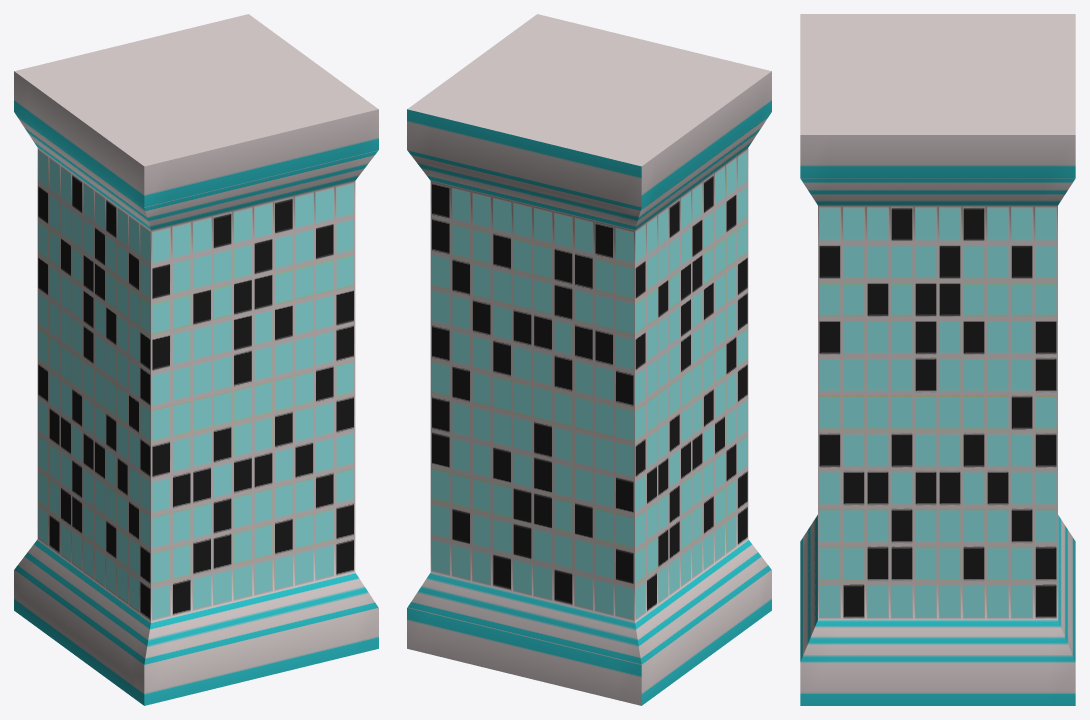
The model's file is Building_1.fbx.
The picture shows the model from 3 angles, left to right: view 1: azimuth 30°, elevation 25°; view 2: azimuth 150°, elevation 25°; view 3: azimuth 270°, elevation 25°; orthographic projection. The views are drawn at different scales.
Visible parts, largest first — view 1: pCube1; view 2: pCube1; view 3: pCube1.
Part boxes in pixels (x1,y1,x2,y2): pCube1: (14, 14, 378, 705); pCube1: (407, 14, 771, 705); pCube1: (800, 14, 1075, 705).
Bounding box in the file's own units: 25.4 × 55.85 × 24.43.
Materials: 1 (1 with a texture image).
